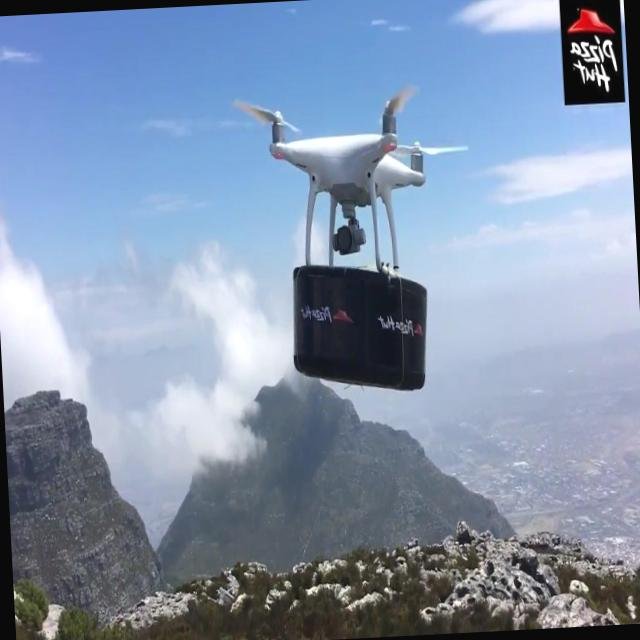drone: (231, 83, 467, 277)
